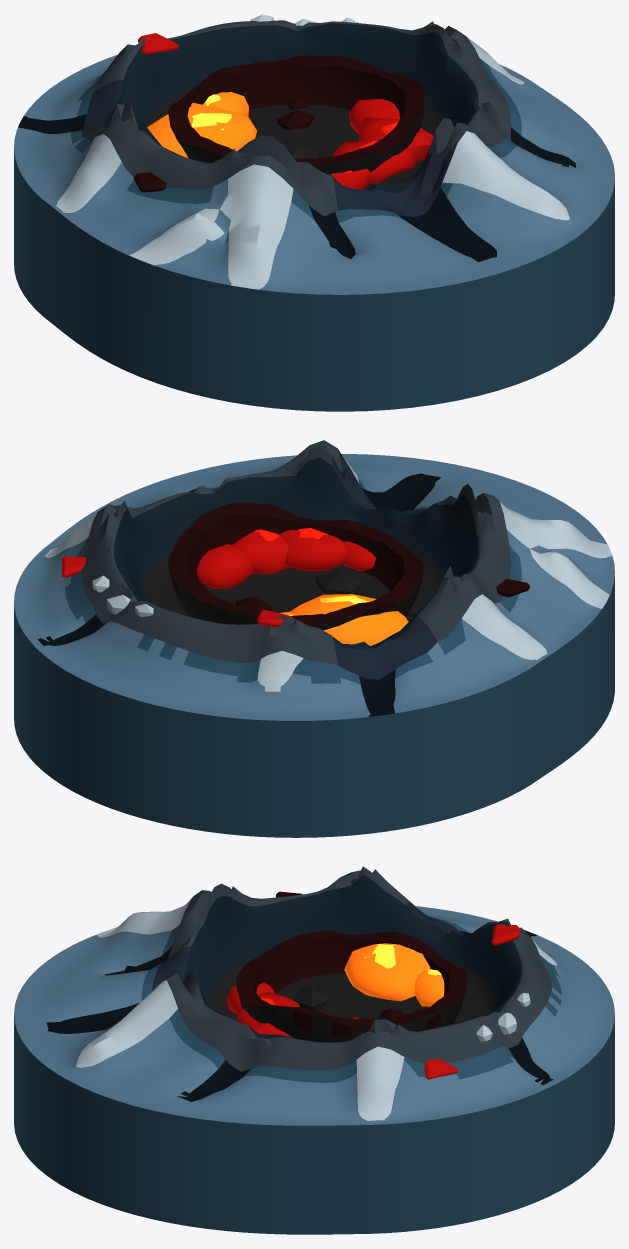
Rendered from ice_vent_wreck.glb.
3 views of the same model, one above another, from view 1: azimuth 30°, elevation 25°; view 2: azimuth 150°, elevation 25°; view 3: azimuth 270°, elevation 25° (orthographic). The views are drawn at different scales.
Visible parts, largest first — view 1: ice, orb_shell, ember0, ember2, ember3, ember4, ember1, shard2, ember5, lump1; view 2: ice, orb_shell, ember0, ember2, ember4, ember3, lump0, ember5; view 3: ice, orb_shell, ember0, ember1, lump0, ember2.
Boxes of the visible parts, bbox=[...] form: ice: bbox=[14, 20, 614, 411]; orb_shell: bbox=[168, 55, 425, 174]; ember0: bbox=[147, 103, 256, 158]; ember2: bbox=[332, 140, 417, 183]; ember3: bbox=[359, 117, 433, 162]; ember4: bbox=[349, 99, 399, 134]; ember1: bbox=[202, 92, 248, 116]; shard2: bbox=[138, 33, 178, 54]; ember5: bbox=[329, 168, 370, 189]; lump1: bbox=[277, 110, 313, 130]; ice: bbox=[14, 440, 614, 837]; orb_shell: bbox=[168, 502, 423, 630]; ember0: bbox=[290, 594, 408, 645]; ember2: bbox=[279, 529, 347, 571]; ember4: bbox=[197, 544, 253, 588]; ember3: bbox=[233, 531, 289, 574]; lump0: bbox=[314, 572, 362, 594]; ember5: bbox=[342, 541, 375, 570]; ice: bbox=[14, 866, 614, 1234]; orb_shell: bbox=[236, 931, 467, 1042]; ember0: bbox=[344, 943, 430, 1001]; ember1: bbox=[414, 969, 444, 1006]; lump0: bbox=[293, 986, 327, 1010]; ember2: bbox=[237, 992, 299, 1030].
Bounding box in the file's own units: 18.49 × 7.37 × 21.
